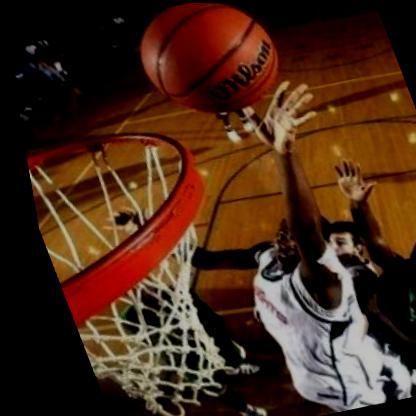basketball: (111, 1, 308, 133)
